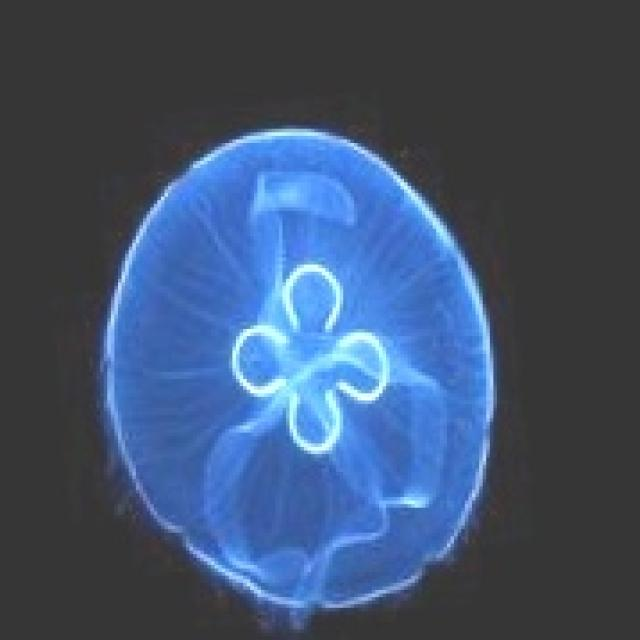Moon-jellyfish: (97, 122, 497, 629)
